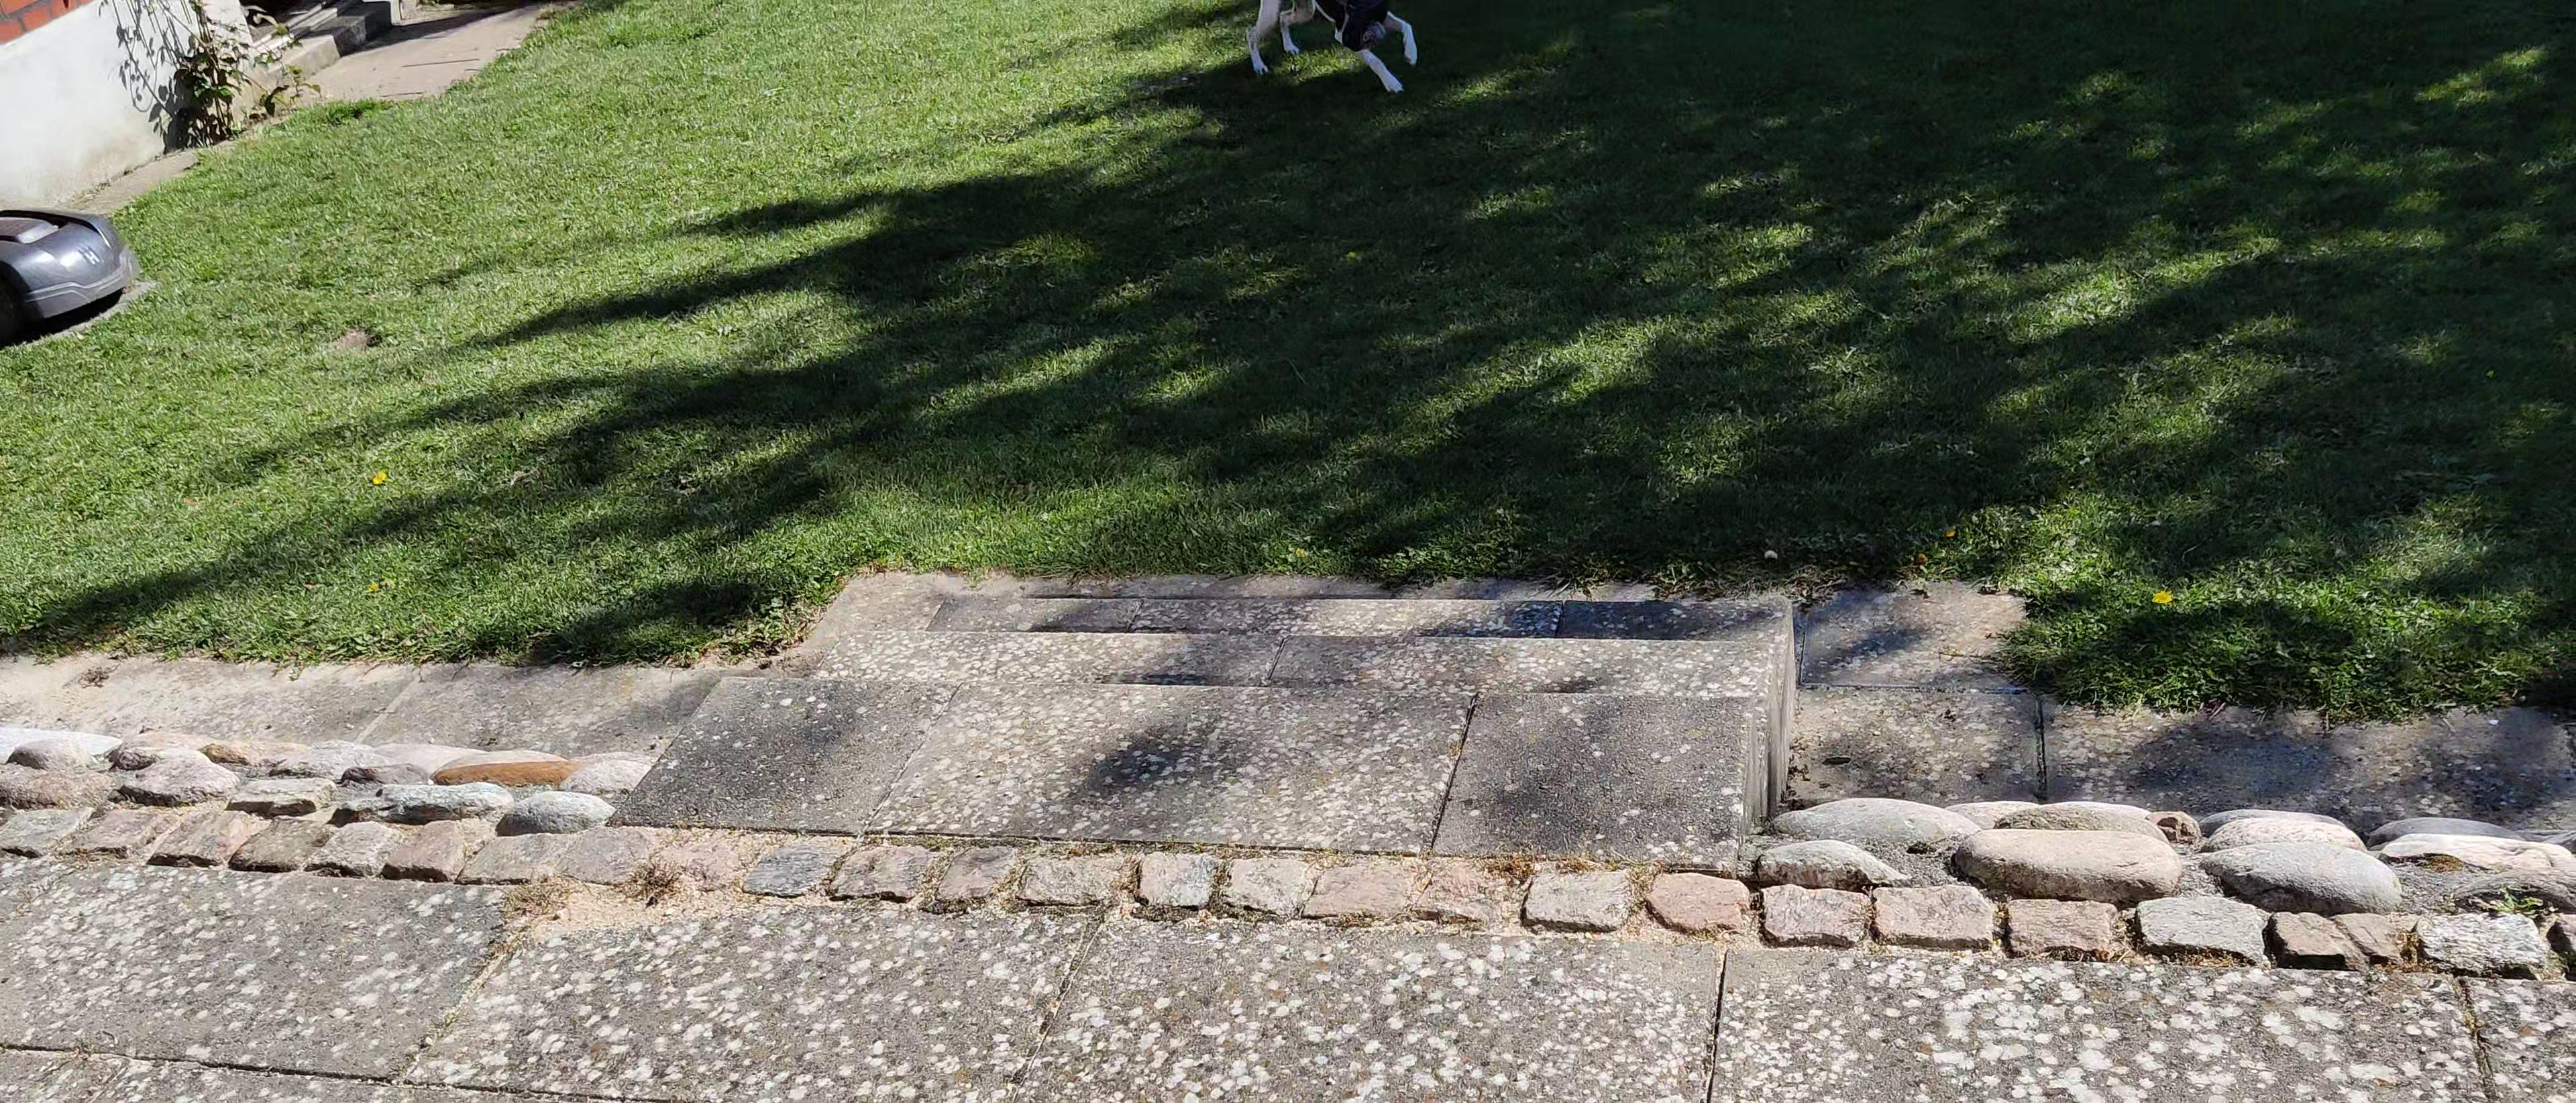Dog: (1239, 0, 1429, 102)
